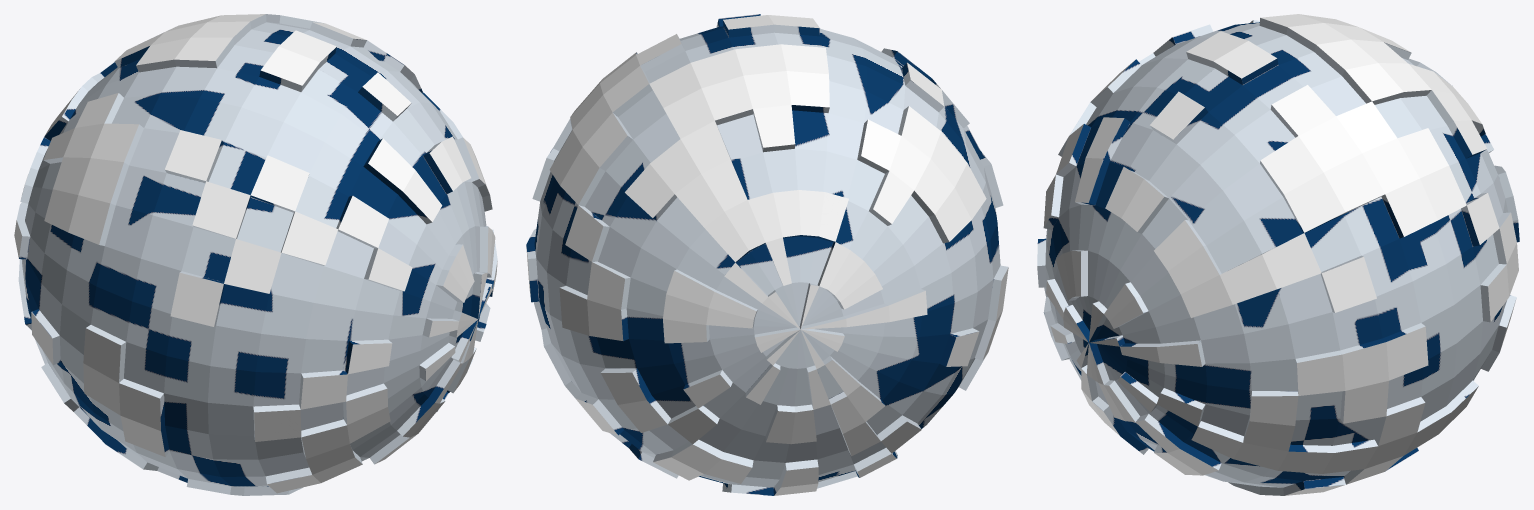
File: planet_01.glb
3 views of the same model, side by side, from view 1: azimuth 30°, elevation 25°; view 2: azimuth 150°, elevation 25°; view 3: azimuth 270°, elevation 25° (orthographic).
Visible parts, largest first — view 1: Sphere.003; view 2: Sphere.003; view 3: Sphere.003.
Boxes of the visible parts, x1,y1,x2,y2 form: Sphere.003: (14,14,497,495); Sphere.003: (526,14,1008,495); Sphere.003: (1037,14,1519,495).
Bounding box in the file's own units: 2.06 × 2.06 × 2.06.
2 materials, 1 textured.
